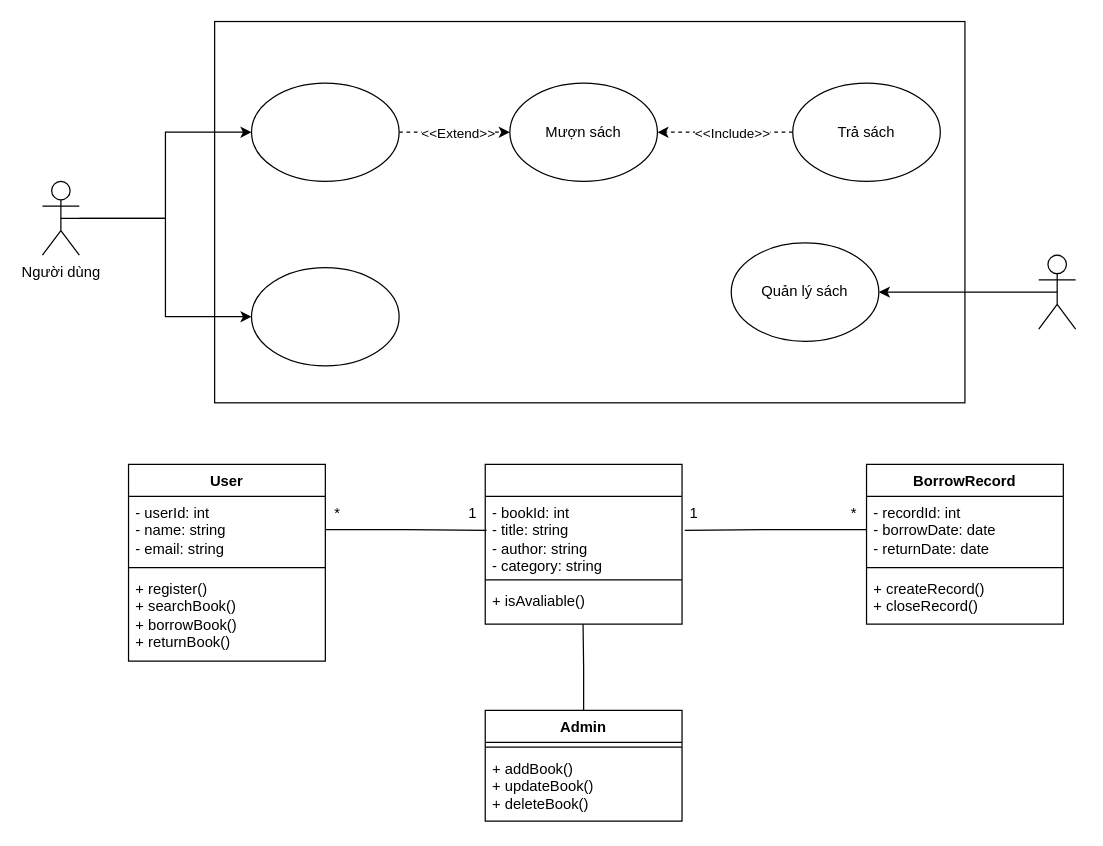
Some shapes in this 1103 by 846 pixel diagram are drawn without their labels. The box of each missing label's shape, as (x1, y1, x2, y2) in pixels:
Books: (484, 463, 682, 624)
Thủ thư: (1038, 254, 1076, 329)
Tìm kiếm: (250, 266, 399, 366)
Đăng ký: (250, 82, 399, 181)
